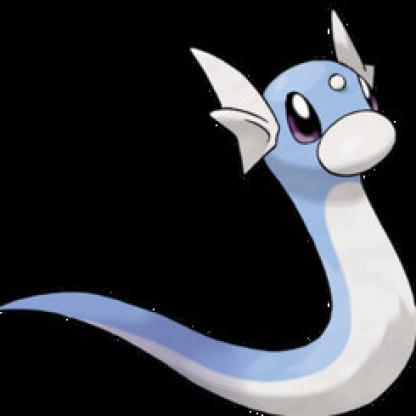Dratini: (1, 9, 416, 416)
